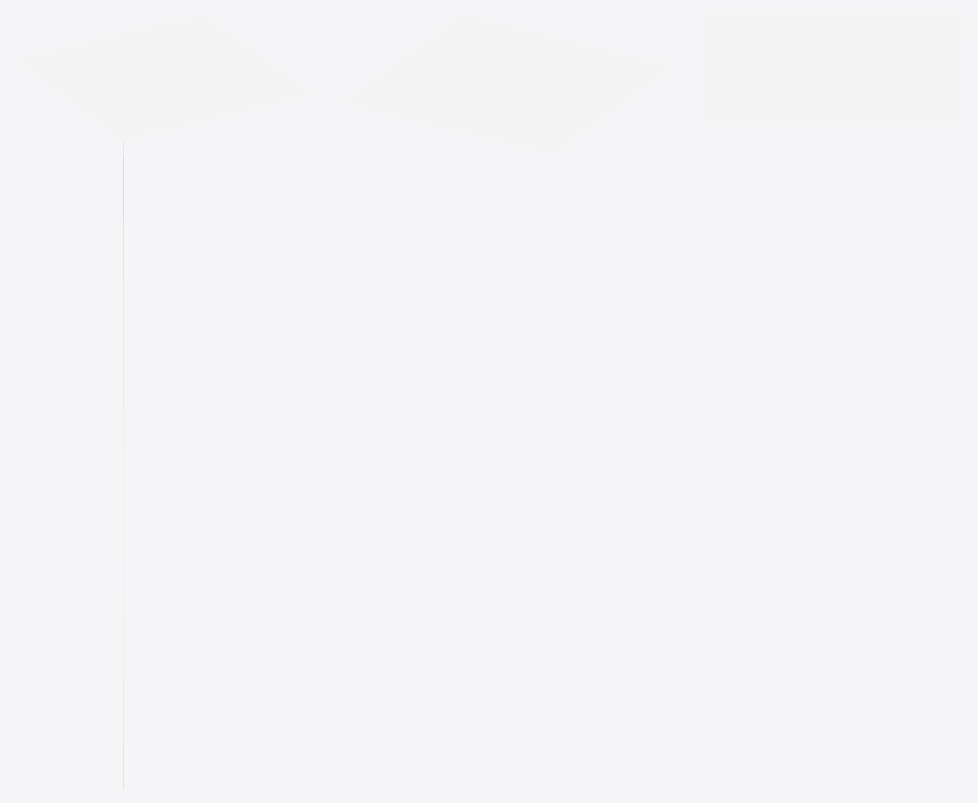
The picture shows the model from 3 angles, left to right: view 1: azimuth 30°, elevation 25°; view 2: azimuth 150°, elevation 25°; view 3: azimuth 270°, elevation 25°; orthographic projection. The views are drawn at different scales.
Size of the model in its own units: 0.501 by 1.64 by 0.5005.
Materials: 1 (1 with a texture image).
